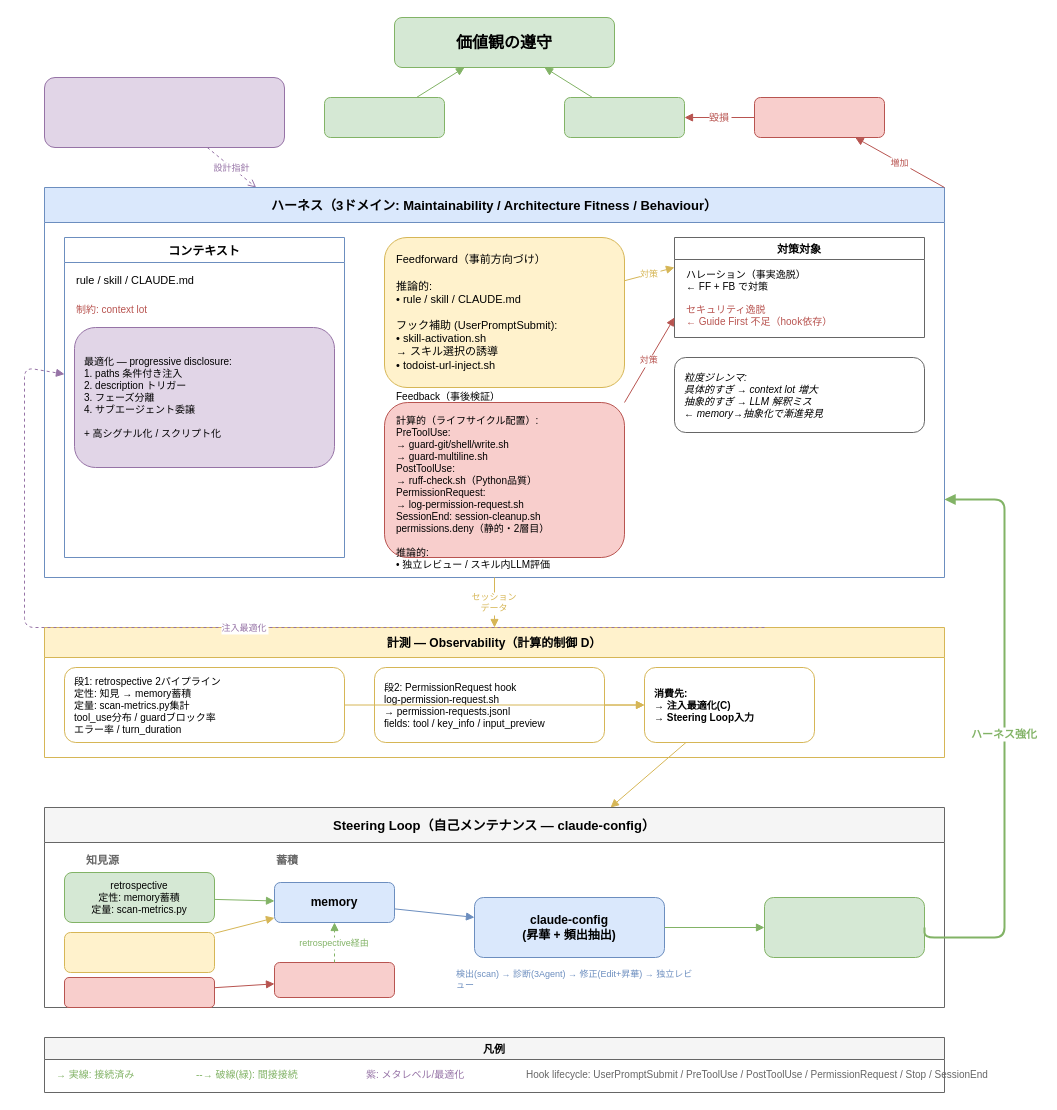
Some shapes in this 1057 by 1110 pixel diagram are drawn without their labels. The shapes that lost their labels are listed below. From the top down, each one's centre as x and y in pixels, then its label:
point 164,112: 設計原則（メタレベル） Guide First / Computational First ライフサイクル配置 / 自己メンテナンス
point 384,117: 再現性
point 624,117: 精度
point 819,117: context lot (予算制約)
point 844,927: rule / skill 昇格 （人間レビュー）
point 139,952: 逸脱FB (属人的)
point 139,992: 独立レビュー結果
point 334,980: tmp/review/
